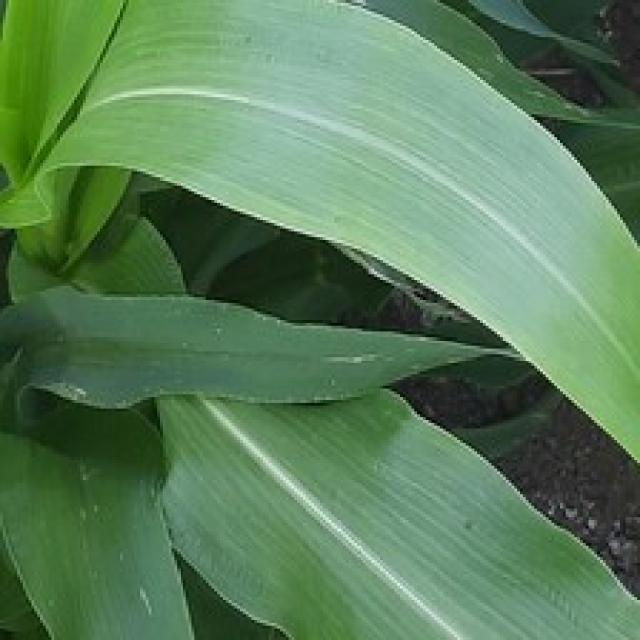Corn: (0, 0, 637, 637), (152, 383, 637, 637)
